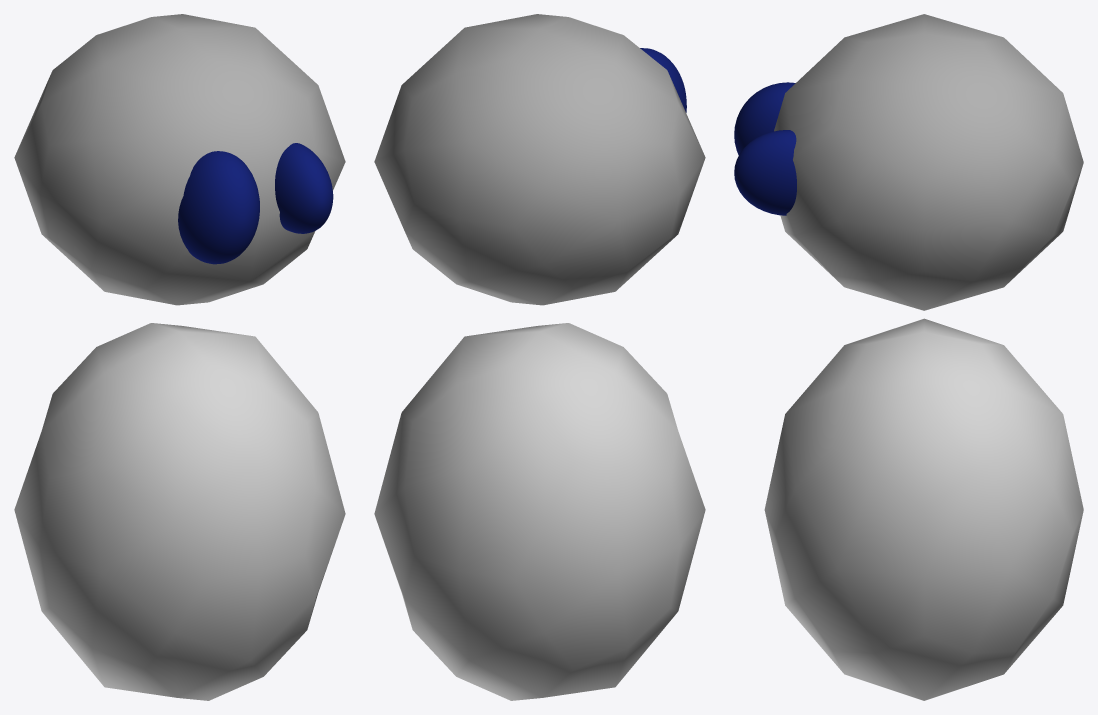
The model's file is avatar.fbx.
3 views of the same model, side by side, from view 1: azimuth 30°, elevation 25°; view 2: azimuth 150°, elevation 25°; view 3: azimuth 270°, elevation 25° (orthographic).
Visible parts, largest first — view 1: pSolid2, pSolid4; view 2: pSolid2, pSolid4; view 3: pSolid2, pSolid4.
Boxes of the visible parts, left/top/right/bottom form: pSolid2: left=14, top=323, right=345, bottom=700; pSolid4: left=14, top=14, right=345, bottom=305; pSolid2: left=374, top=323, right=705, bottom=700; pSolid4: left=374, top=14, right=705, bottom=305; pSolid2: left=764, top=318, right=1083, bottom=700; pSolid4: left=734, top=14, right=1083, bottom=310.
Size of the model in its own units: 12.52 by 28.28 by 13.71.
